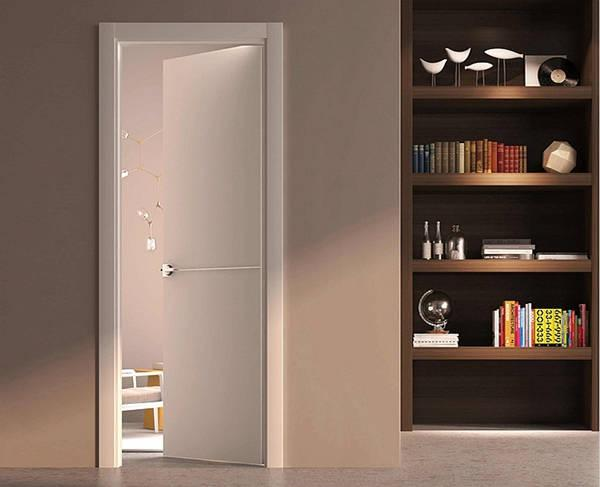door: (119, 34, 281, 460)
